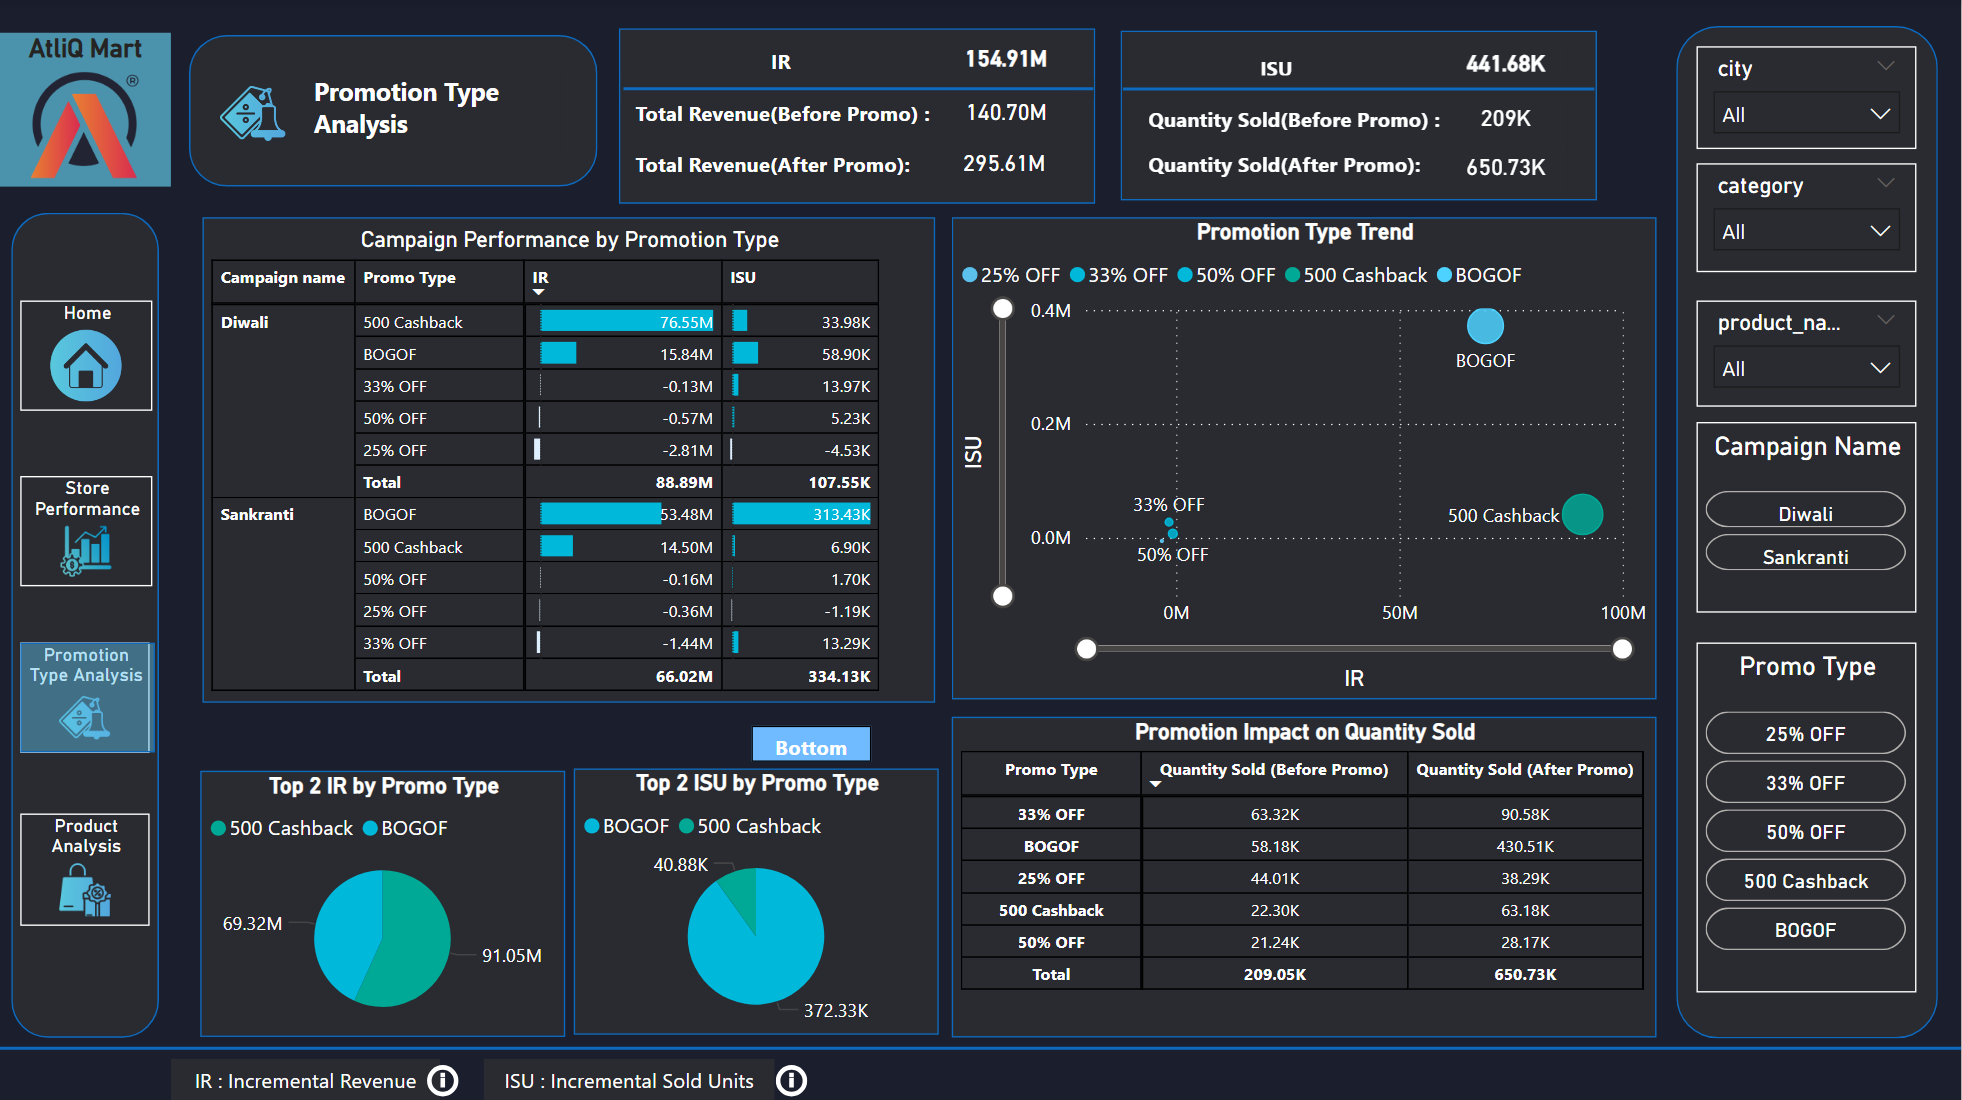

Layout of this report page (visuals, bound fields, positions):
{"tool":"powerbi","page":{"name":"Promotion Type Anaysis","canvas":[1280,720],"ordinal":2},"visuals":[{"type":"textbox","box":[664.1,374.8,416.6,32.7],"z":0},{"type":"pieChart","title":"Top 2 ISU by Promo Type","fields":{"Y":["Sum(fact_events.ISU)"],"Category":["fact_events.promo_type"]},"box":[374.7,502.6,238.3,173.8],"z":0,"group":"g1"},{"type":"pieChart","title":"Top 2 IR by Promo Type","fields":{"Y":["Sum(fact_events.IR)"],"Category":["fact_events.promo_type"]},"box":[130.9,503.2,238.3,173.8],"z":1000,"group":"g1"},{"type":"pivotTable","title":"Campaign Performance by Promotion Type","fields":{"Rows":["dim_campaigns.campaign_name","fact_events.promo_type"],"Values":["Sum(fact_events.IR)","Sum(fact_events.ISU)"]},"box":[132.5,142.1,478,317],"z":2000},{"type":"actionButton","box":[490.4,474.2,78.4,23.8],"z":2000,"group":"g1"},{"type":"group","id":"g1","title":"Top","box":[130.9,474.2,482.1,202.8],"z":3000},{"type":"pivotTable","title":"Promotion Impact on Quantity Sold","fields":{"Values":["Sum(fact_events.quantity_sold(before_promo))","Sum(fact_events.Qunatity Sold After Promotion)"],"Rows":["fact_events.promo_type"]},"box":[621,467.8,459.8,209.1],"z":4000},{"type":"scatterChart","title":"Promotion Type Trend","fields":{"X":["fact_events.IR"],"Y":["Sum(fact_events.ISU)"],"Series":["fact_events.promo_type"],"Category":["fact_events.promo_type","dim_products.category","dim_products.product_name"],"Size":["fact_events.IR"]},"box":[621,142.1,459.8,314.5],"z":5000},{"type":"shape","box":[122.9,23.9,266.6,99],"z":7000},{"type":"textbox","box":[200.1,44,166,59.1],"z":8000},{"type":"shape","box":[1093.6,17.6,170.8,660.9],"z":9000},{"type":"advancedSlicerVisual","title":"Campaign Name","fields":{"Values":["dim_campaigns.campaign_name"]},"box":[1108,276.2,143.7,124.5],"z":10000},{"type":"slicer","fields":{"Values":["dim_stores.city"]},"box":[1108,30.9,143.7,67.3],"z":11000},{"type":"slicer","fields":{"Values":["dim_products.category"]},"box":[1108,107.3,143.7,71],"z":12000},{"type":"advancedSlicerVisual","title":"Promo Type","fields":{"Values":["fact_events.promo_type"]},"box":[1108,419.9,143.7,228.3],"z":13000},{"type":"slicer","fields":{"Values":["dim_products.product_name"]},"box":[1108,196.5,143.7,69.1],"z":14000},{"type":"shape","box":[7.3,140.1,96.4,538.5],"z":15000},{"type":"image","title":"Store Performance","box":[12.8,311.3,86.2,71.8],"z":16000},{"type":"image","title":"Home","box":[12.8,196.4,86.2,71.8],"z":17000},{"type":"image","title":"Promotion Type Analysis","box":[12.8,419.9,84.6,71.8],"z":18000},{"type":"image","title":"Product Analysis","box":[12.8,531.6,84.6,73.4],"z":19000},{"type":"image","title":"AtliQ Mart","box":[0,22.4,111.8,100.6],"z":20000},{"type":"shape","box":[404.6,19,311.1,114.6],"z":21000},{"type":"textbox","box":[421,26.3,176.5,34.6],"z":22000},{"type":"card","fields":{"Values":["Sum(fact_events.IR)"]},"box":[616.2,25.5,79.8,30.3],"z":23000},{"type":"shape","box":[407.1,51.1,307,14.4],"z":24000},{"type":"textbox","box":[410,60.8,212.9,29.1],"z":25000},{"type":"card","fields":{"Values":["Sum(fact_events.Total_reveneue(Before Promotion))"]},"box":[616.2,60.7,79.8,30.3],"z":26000},{"type":"textbox","box":[410,93.6,198.3,29.1],"z":27000},{"type":"card","fields":{"Values":["Sum(fact_events.Revenue after promotion)"]},"box":[615.6,93.6,80.1,29.1],"z":28000},{"type":"shape","box":[731.8,20.8,311.1,111],"z":29000},{"type":"textbox","box":[744,30.3,177.2,28.7],"z":30000},{"type":"card","fields":{"Values":["Sum(fact_events.ISU)"]},"box":[942.8,28.1,80.1,30.9],"z":31000},{"type":"textbox","box":[744.5,64.5,212.9,29.1],"z":32000},{"type":"card","fields":{"Values":["Sum(fact_events.quantity_sold(before_promo))"]},"box":[942.8,60.8,80.1,38.2],"z":33000},{"type":"textbox","box":[744.5,93.6,198.3,34.6],"z":34000},{"type":"card","fields":{"Values":["Sum(fact_events.Qunatity Sold After Promotion)"]},"box":[942.8,93.6,80.1,34.6],"z":35000},{"type":"shape","box":[732.8,49.5,308,17.6],"z":36000},{"type":"image","title":"Promotion Type Analysis","box":[131.4,48.8,68.6,52.7],"z":37000},{"type":"shape","box":[0,678.5,1280.4,12.8],"z":38000},{"type":"textbox","box":[111.8,691.3,175.6,28.7],"z":39000},{"type":"textbox","box":[316.1,691.3,190,28.7],"z":40000},{"type":"actionButton","box":[274.6,691.3,30.3,28.7],"z":41000},{"type":"actionButton","box":[502.9,691.3,30.3,28.7],"z":42000},{"type":"shape","box":[12.8,419.9,88,71.8],"z":42001}]}

Visuals, with their boxes in screenshot pixels (x1, y1, x2, y2), scaled from the page's 1280x720 canvas onto the 1962x1100 screenshot:
textbox: select_region(1018, 573, 1657, 623)
"Top 2 ISU by Promo Type" pieChart: select_region(574, 768, 940, 1033)
"Top 2 IR by Promo Type" pieChart: select_region(201, 769, 566, 1034)
"Campaign Performance by Promotion Type" pivotTable: select_region(203, 217, 936, 701)
actionButton: select_region(752, 724, 872, 761)
"Top" group: select_region(201, 724, 940, 1034)
"Promotion Impact on Quantity Sold" pivotTable: select_region(952, 715, 1657, 1034)
"Promotion Type Trend" scatterChart: select_region(952, 217, 1657, 698)
shape: select_region(188, 37, 597, 188)
textbox: select_region(307, 67, 561, 158)
shape: select_region(1676, 27, 1938, 1037)
"Campaign Name" advancedSlicerVisual: select_region(1698, 422, 1919, 612)
slicer - dim_stores.city: select_region(1698, 47, 1919, 150)
slicer - dim_products.category: select_region(1698, 164, 1919, 272)
"Promo Type" advancedSlicerVisual: select_region(1698, 642, 1919, 990)
slicer - dim_products.product_name: select_region(1698, 300, 1919, 406)
shape: select_region(11, 214, 159, 1037)
"Store Performance" image: select_region(20, 476, 152, 585)
"Home" image: select_region(20, 300, 152, 410)
"Promotion Type Analysis" image: select_region(20, 642, 149, 751)
"Product Analysis" image: select_region(20, 812, 149, 924)
"AtliQ Mart" image: select_region(0, 34, 171, 188)
shape: select_region(620, 29, 1097, 204)
textbox: select_region(645, 40, 916, 93)
card - Sum(fact_events.IR): select_region(945, 39, 1067, 85)
shape: select_region(624, 78, 1095, 100)
textbox: select_region(628, 93, 955, 137)
card - Sum(fact_events.Total_reveneue(Before Promotion)): select_region(945, 93, 1067, 139)
textbox: select_region(628, 143, 932, 187)
card - Sum(fact_events.Revenue after promotion): select_region(944, 143, 1066, 187)
shape: select_region(1122, 32, 1599, 201)
textbox: select_region(1140, 46, 1412, 90)
card - Sum(fact_events.ISU): select_region(1445, 43, 1568, 90)
textbox: select_region(1141, 99, 1468, 143)
card - Sum(fact_events.quantity_sold(before_promo)): select_region(1445, 93, 1568, 151)
textbox: select_region(1141, 143, 1445, 196)
card - Sum(fact_events.Qunatity Sold After Promotion): select_region(1445, 143, 1568, 196)
shape: select_region(1123, 76, 1595, 103)
"Promotion Type Analysis" image: select_region(201, 75, 307, 155)
shape: select_region(0, 1037, 1961, 1056)
textbox: select_region(171, 1056, 441, 1099)
textbox: select_region(485, 1056, 776, 1099)
actionButton: select_region(421, 1056, 467, 1099)
actionButton: select_region(771, 1056, 817, 1099)
shape: select_region(20, 642, 155, 751)
